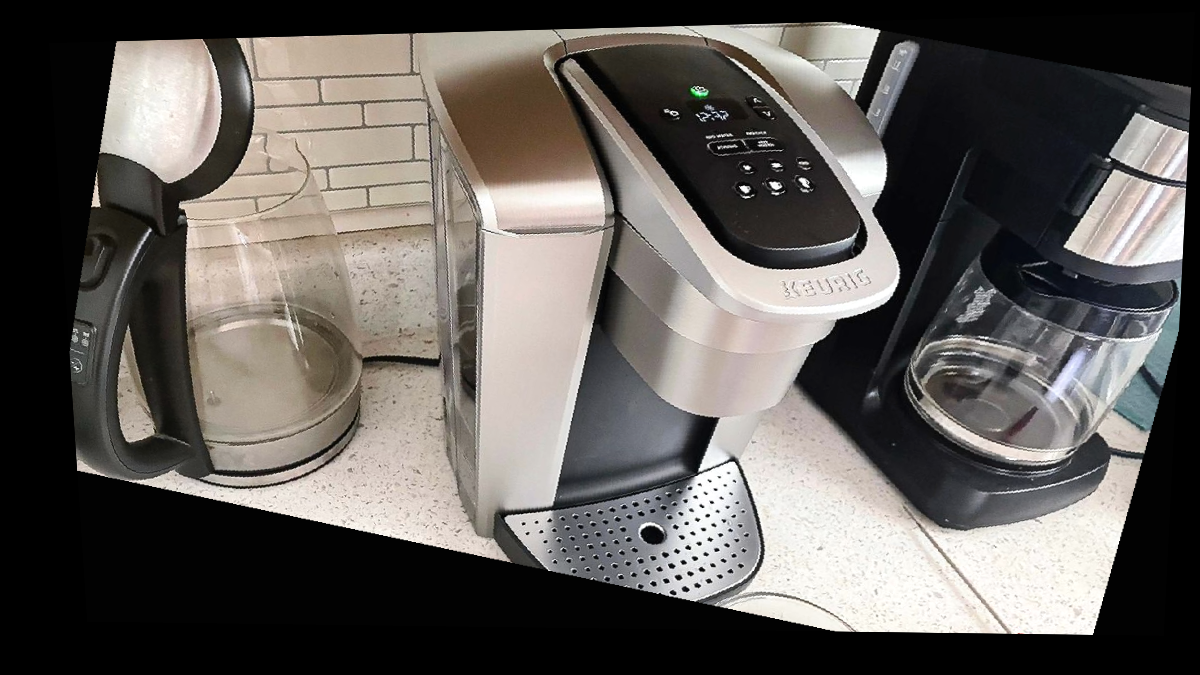10oz: (761, 176, 787, 198)
12oz: (792, 174, 818, 196)
4oz: (736, 160, 758, 176)
6oz: (766, 157, 788, 173)
8oz: (731, 179, 758, 201)
add_water: (702, 123, 744, 142)
descale: (743, 120, 778, 138)
hot: (746, 133, 788, 156)
iced: (794, 156, 815, 172)
power: (688, 83, 714, 98)
strong: (705, 138, 747, 160)
